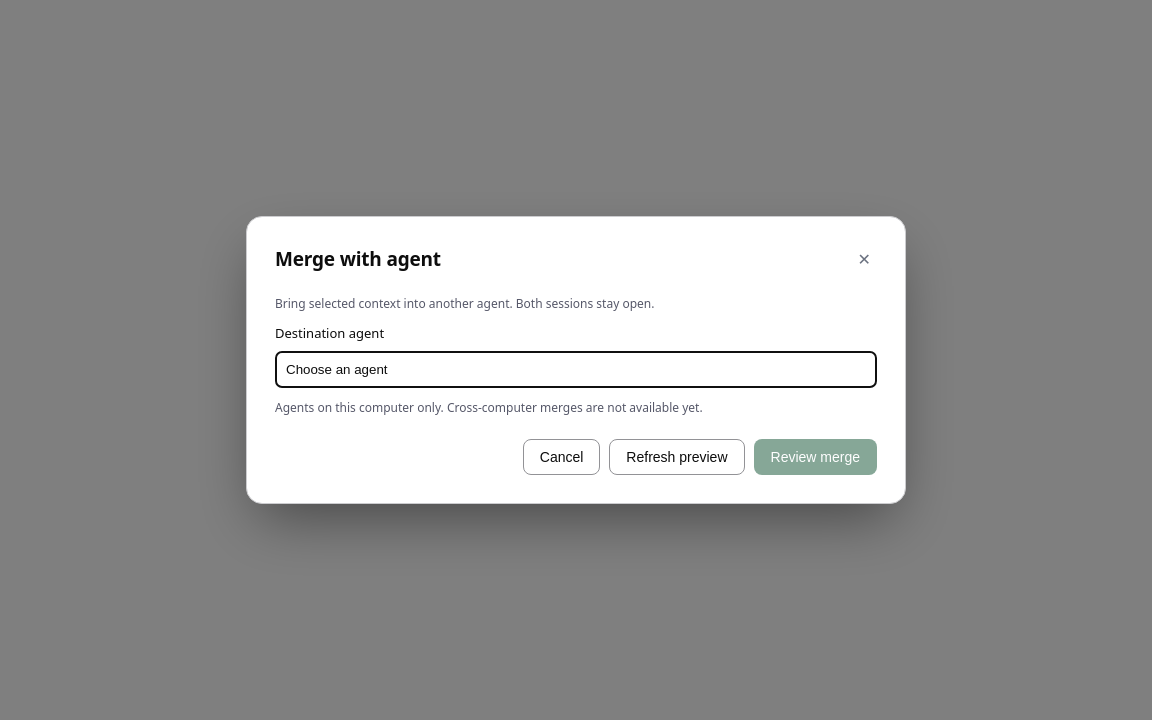
Test case: refresh loads a newly available summary and notes when the fields were untouched
The width and height of the screenshot is (1152, 720).
Select "Destination · Project · busy" in the dropdown labelled "Destination agent" at (576, 369), box [275, 351, 877, 388]
(page scrolled)
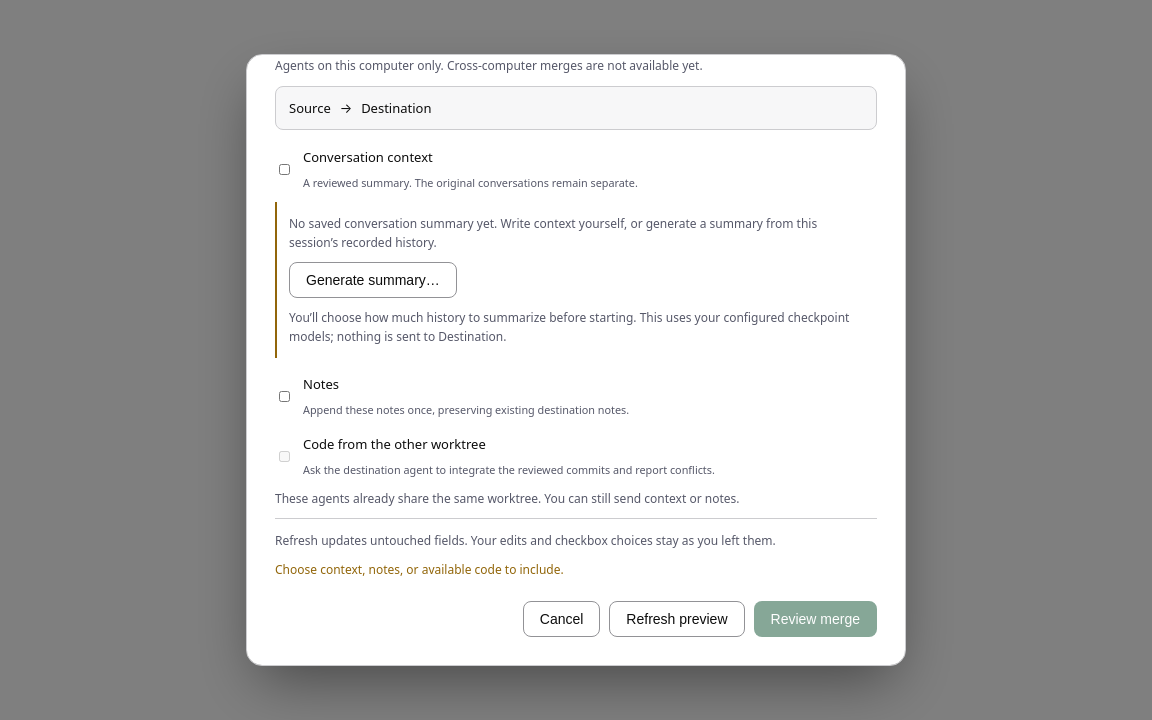
expect the button "Review merge" is disabled: met, box [754, 601, 877, 637]
expect the text "No saved conversation summary" is shown: met, box [289, 215, 817, 251]
Click the button "Refresh preview".
click(677, 619)  # box [609, 601, 745, 637]
(page scrolled)
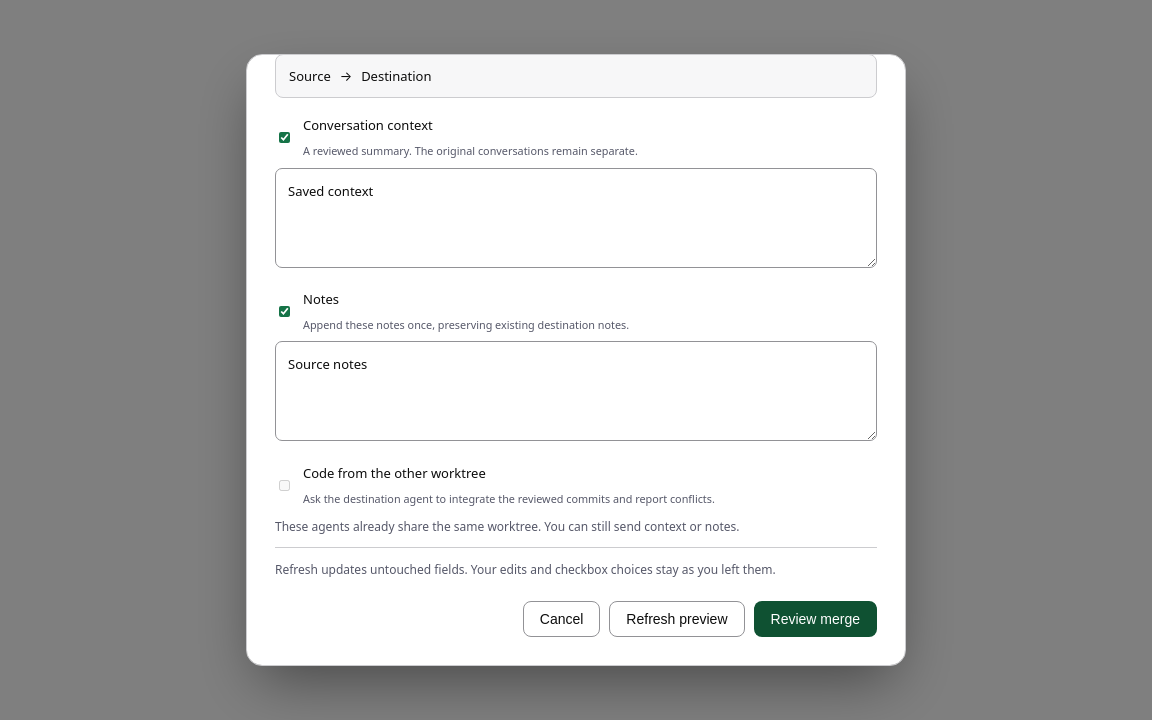
expect the text box showing "Saved context" is shown: met, box [275, 168, 877, 268]
expect the text box named "notes to append" holds "Source notes": met, box [275, 342, 877, 442]
expect the button "Review merge" is enabled: met, box [754, 601, 877, 637]
